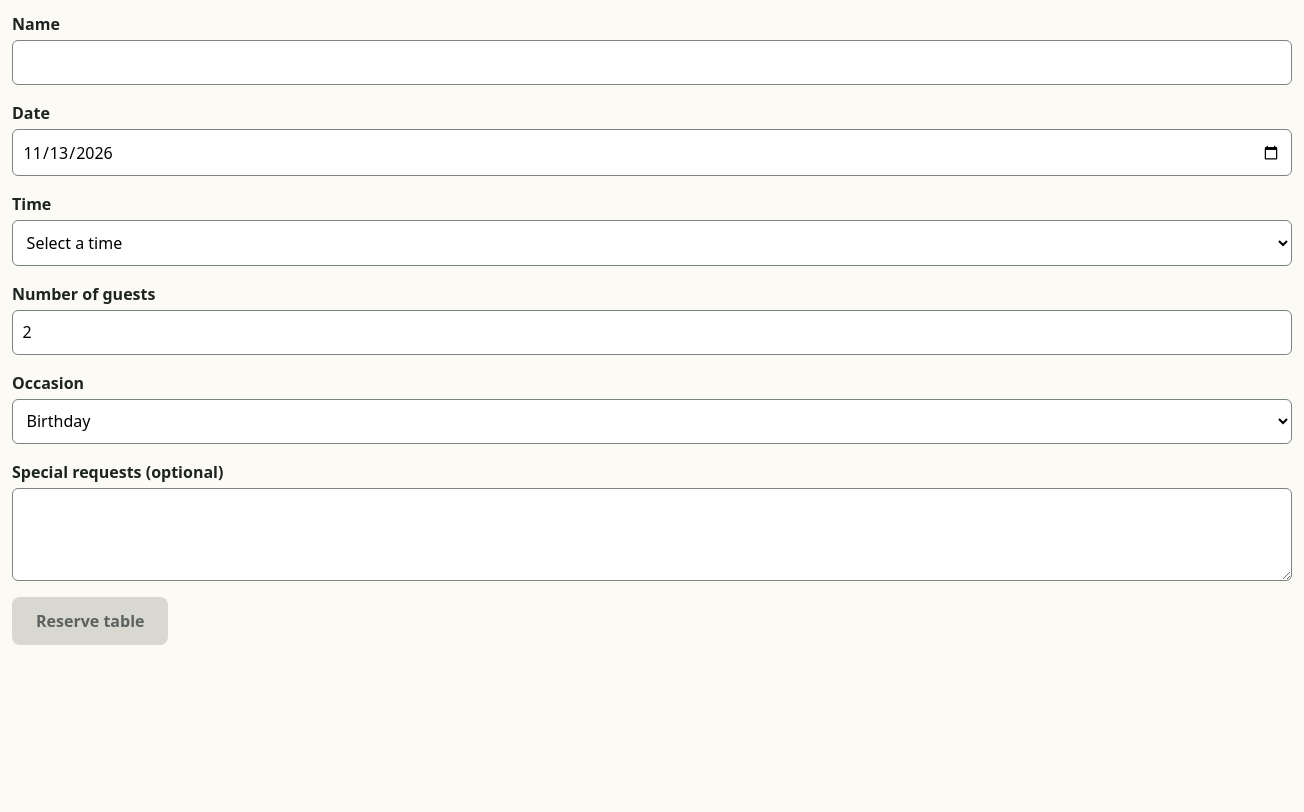
Test: BookingForm › shows an error for an invalid number of guests
Replace the text in the number field labelled "Number of guests" with "11" at coordinates (652, 332), box 12,310 -> 1292,355
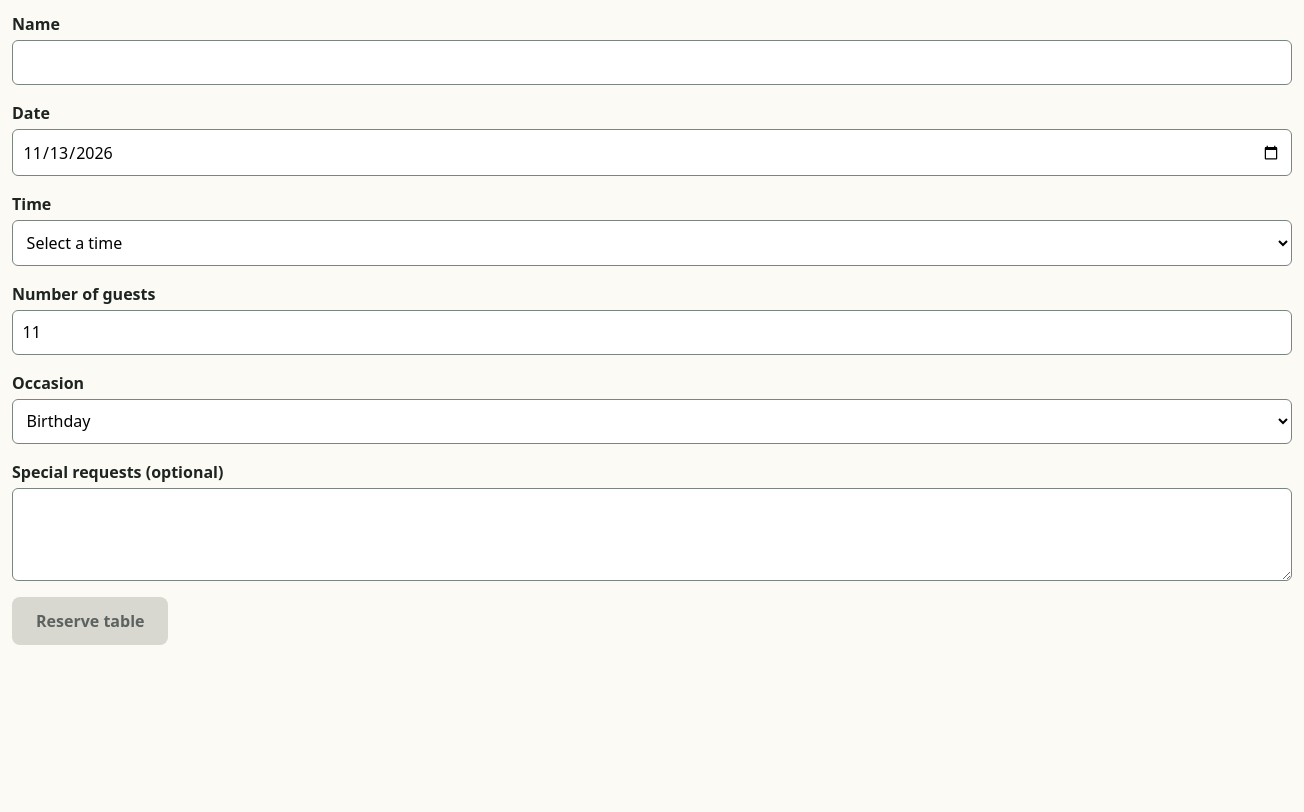
Leave the number field labelled "Number of guests", box 12,310 -> 1292,355
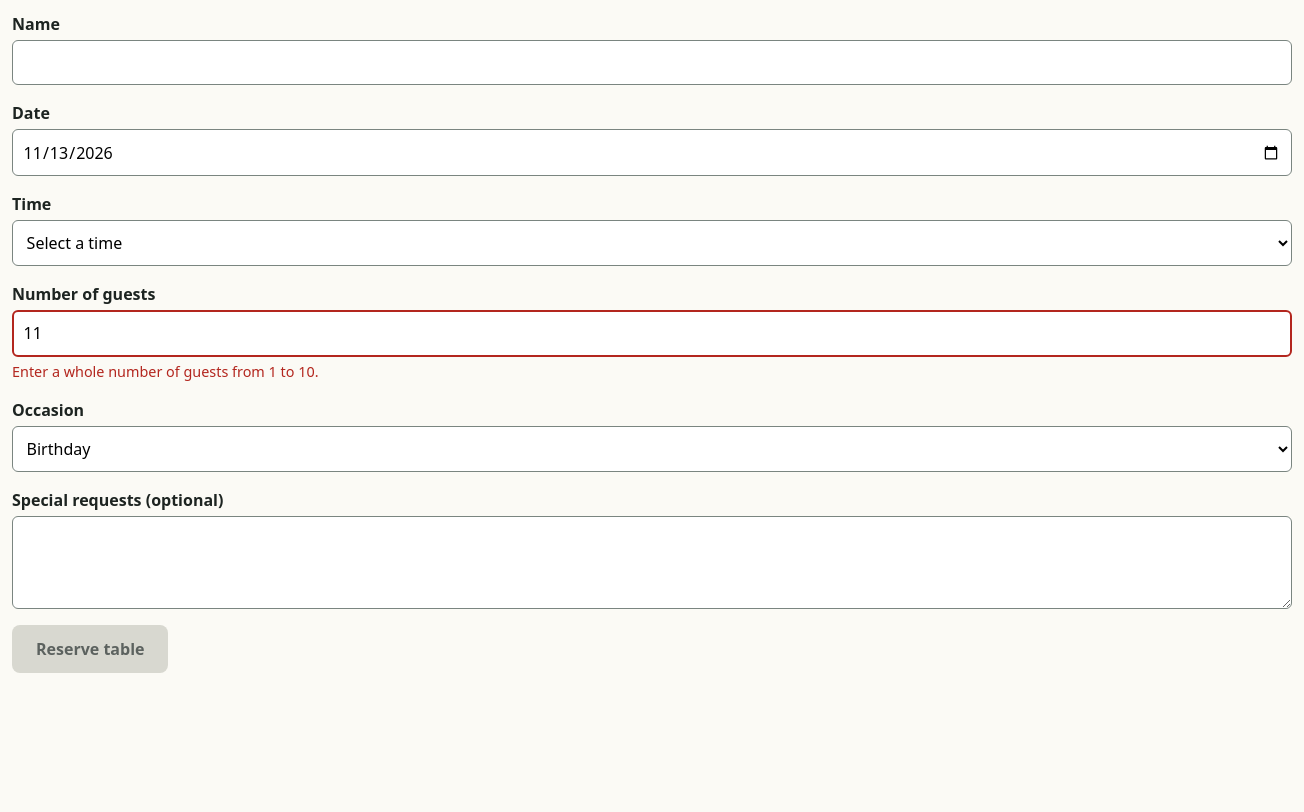
Result: the message shows "from 1 to 10" at 12,362 -> 318,381
